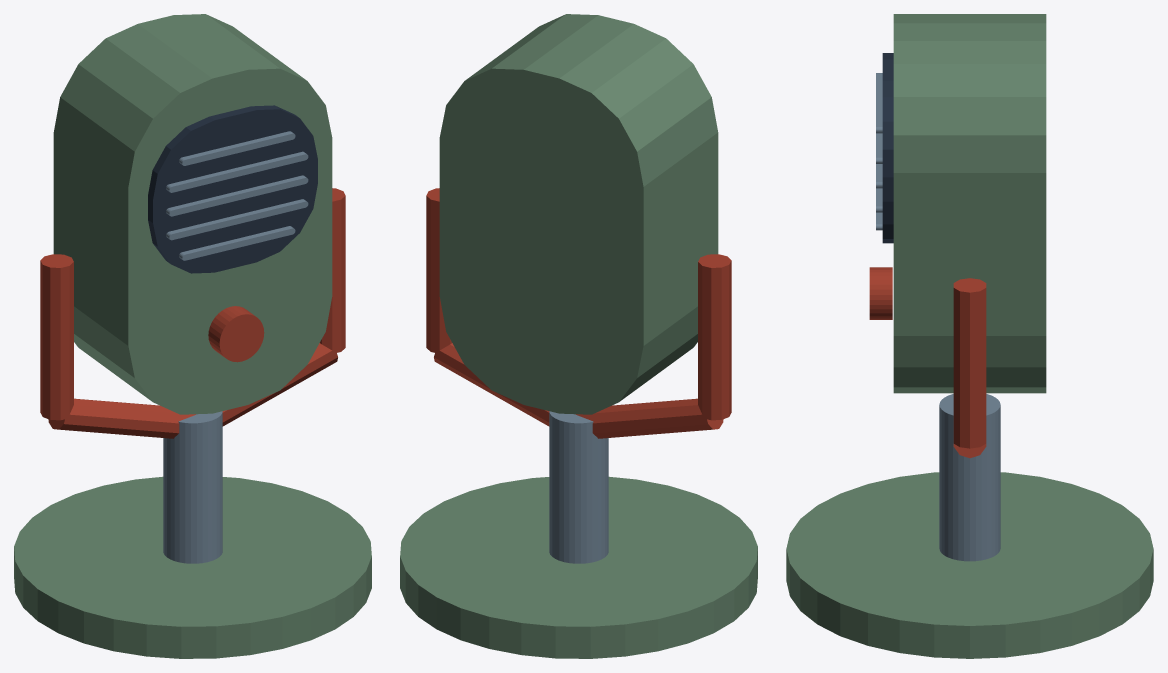
The model's file is mic.glb.
The picture shows the model from 3 angles, left to right: view 1: azimuth 30°, elevation 25°; view 2: azimuth 150°, elevation 25°; view 3: azimuth 270°, elevation 25°; orthographic projection. The views are drawn at different scales.
Visible parts, largest first — view 1: capsule, base, grille, stand, yoke0, yoke1, yoke3, mute key, mesh bar 3, mesh bar 1, mesh bar 2, yoke2 (+2 smaller); view 2: capsule, base, stand, yoke0, yoke1, yoke3, yoke2; view 3: capsule, base, stand, yoke3, grille, mute key.
Boxes of the visible parts, bbox=[...] form: capsule: bbox=[53, 14, 332, 414]; base: bbox=[14, 476, 371, 658]; grille: bbox=[148, 105, 317, 273]; stand: bbox=[163, 411, 222, 563]; yoke0: bbox=[40, 254, 73, 420]; yoke1: bbox=[48, 398, 195, 438]; yoke3: bbox=[320, 188, 345, 352]; mute key: bbox=[208, 306, 264, 362]; mesh bar 3: bbox=[166, 151, 308, 192]; mesh bar 1: bbox=[166, 199, 308, 240]; mesh bar 2: bbox=[166, 175, 308, 216]; yoke2: bbox=[222, 343, 337, 426]; capsule: bbox=[439, 14, 718, 414]; base: bbox=[400, 476, 757, 658]; stand: bbox=[549, 411, 608, 563]; yoke0: bbox=[698, 254, 731, 420]; yoke1: bbox=[576, 398, 723, 438]; yoke3: bbox=[426, 188, 451, 352]; yoke2: bbox=[434, 343, 549, 426]; capsule: bbox=[893, 14, 1046, 393]; base: bbox=[786, 472, 1153, 658]; stand: bbox=[939, 394, 1000, 561]; yoke3: bbox=[953, 278, 986, 448]; grille: bbox=[882, 53, 893, 243]; mute key: bbox=[869, 267, 892, 319].
Size of the model in its own units: 0.96 by 1.59 by 0.96.
